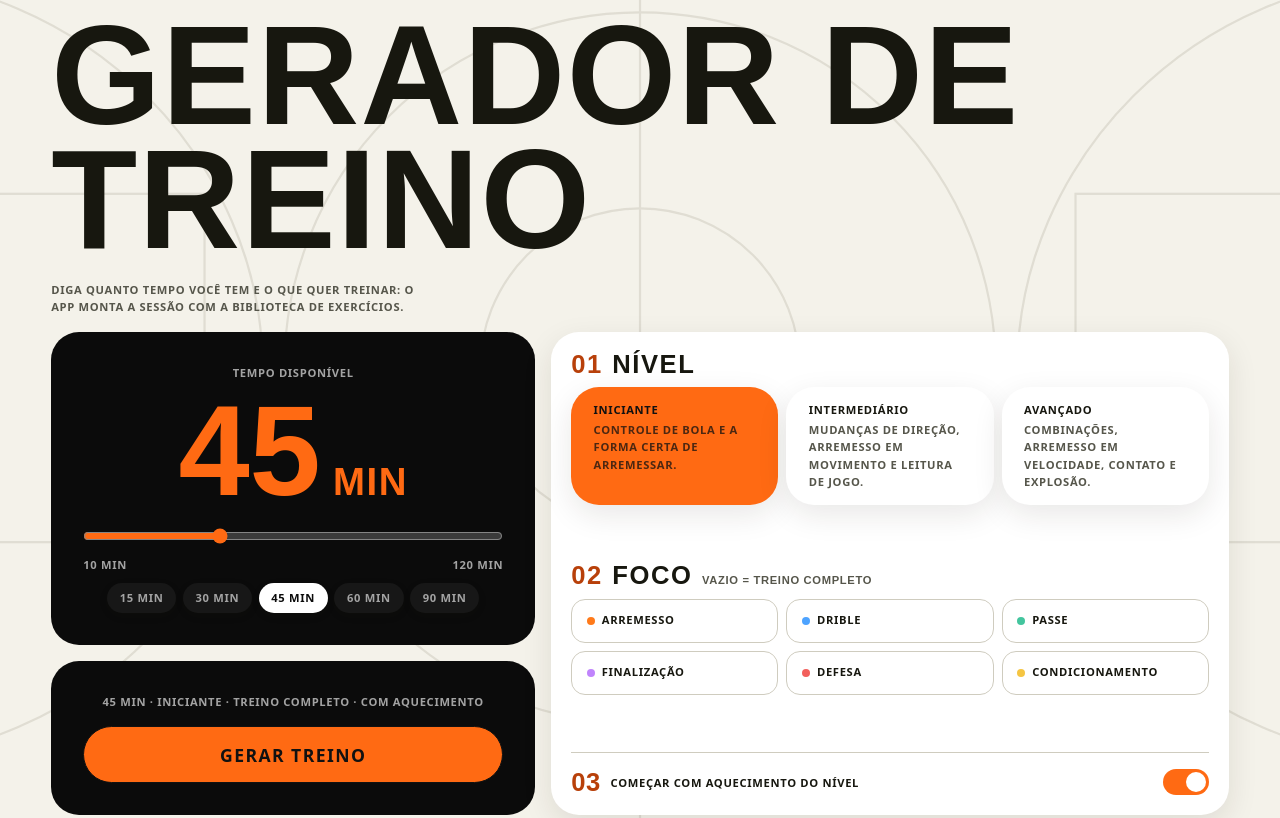
Test case: Gerador de treino › salva o plano como treino com o nome digitado e o tempo de cada bloco
This screenshot has width=1280, height=818.
Click the button "Gerar treino" at (293, 755), box x1=83 y1=726 x2=503 y2=784
(page scrolled)
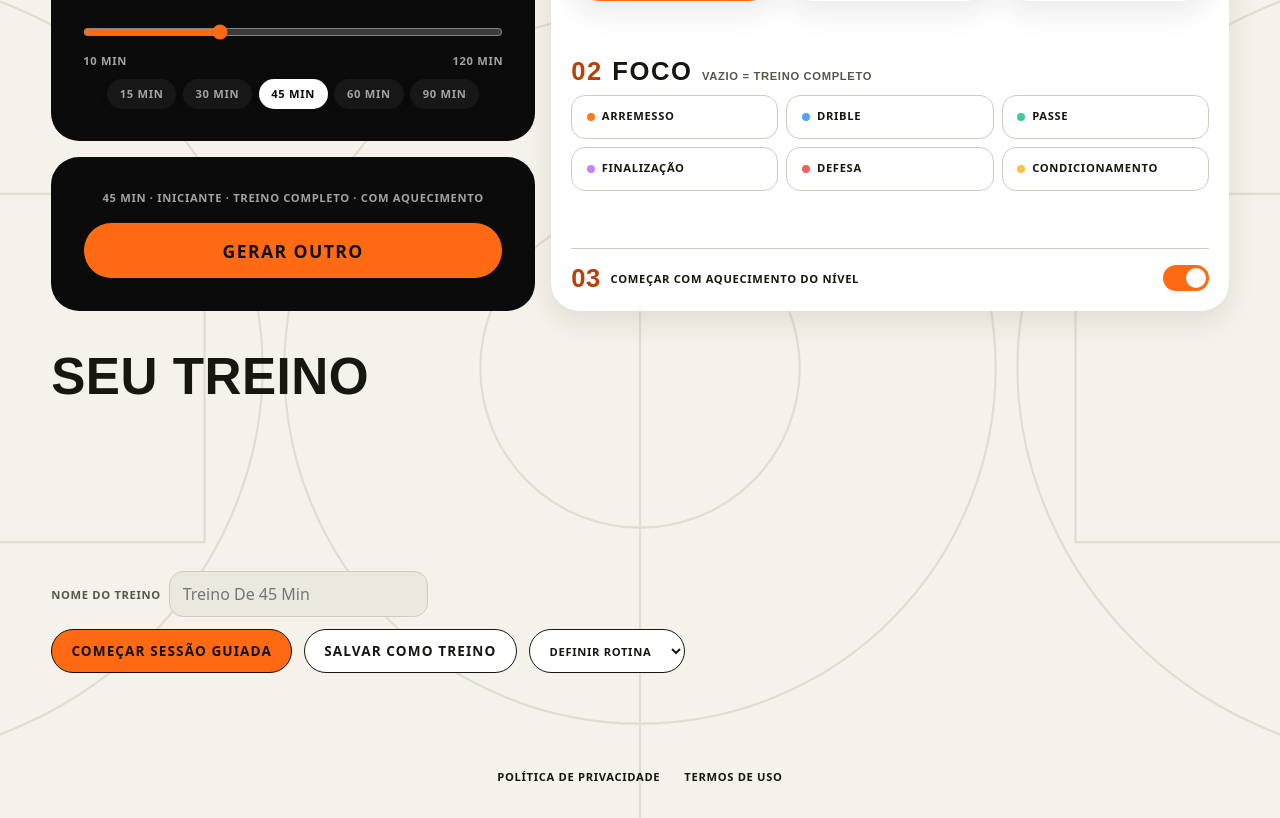
Type "  Pré-jogo " into the field labelled "Nome do treino" at (298, 594), box x1=169 y1=571 x2=428 y2=617
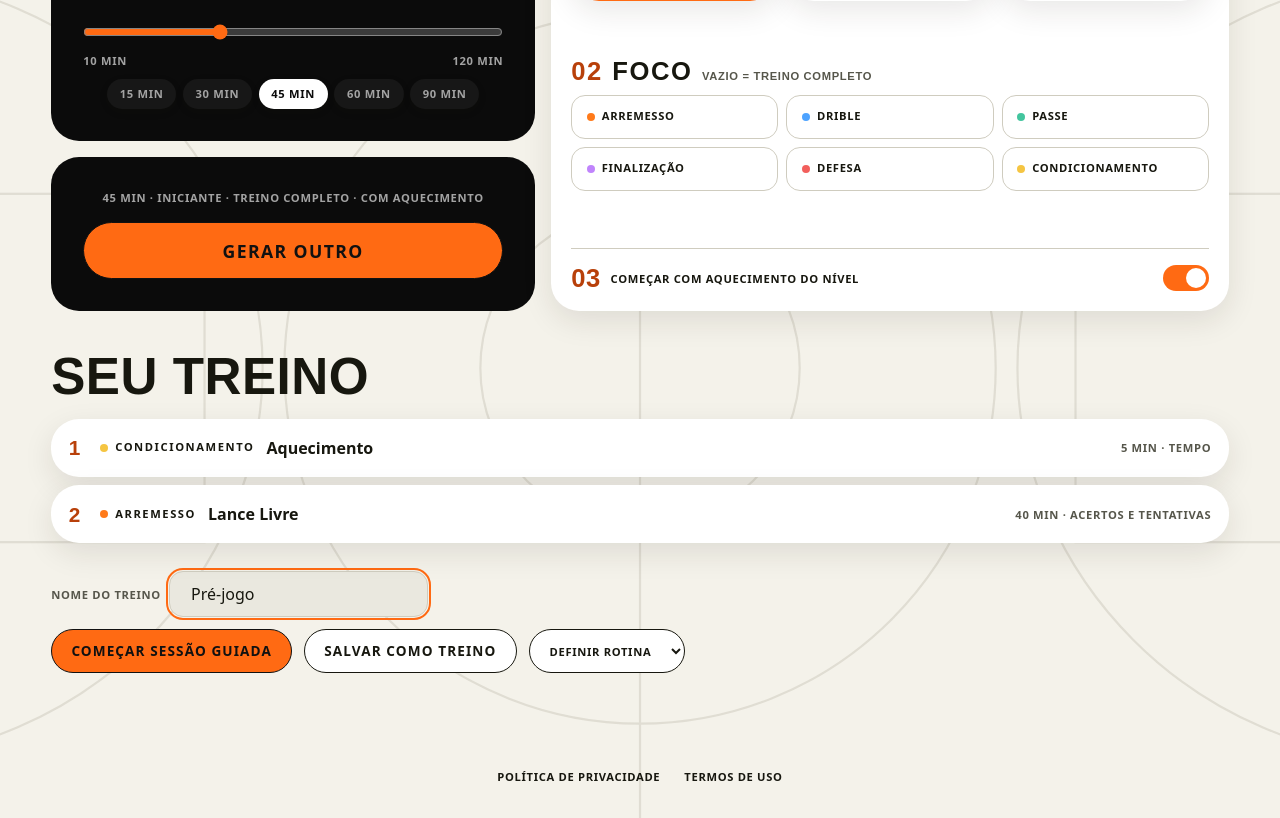
Click the button "Salvar como treino" at (410, 651), box x1=304 y1=629 x2=516 y2=673
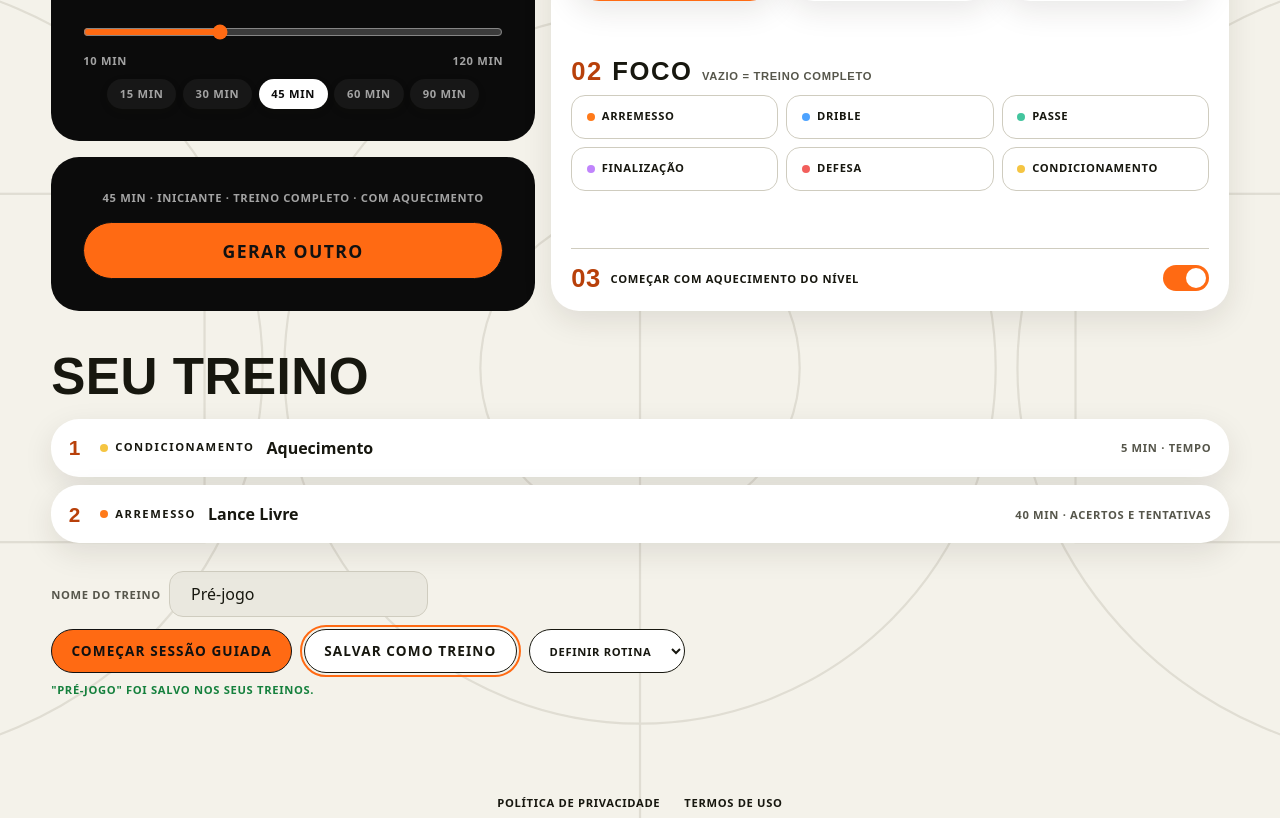
Now the message reads "\"Pré-jogo\" foi salvo nos seus treinos.", box x1=51 y1=682 x2=314 y2=697
